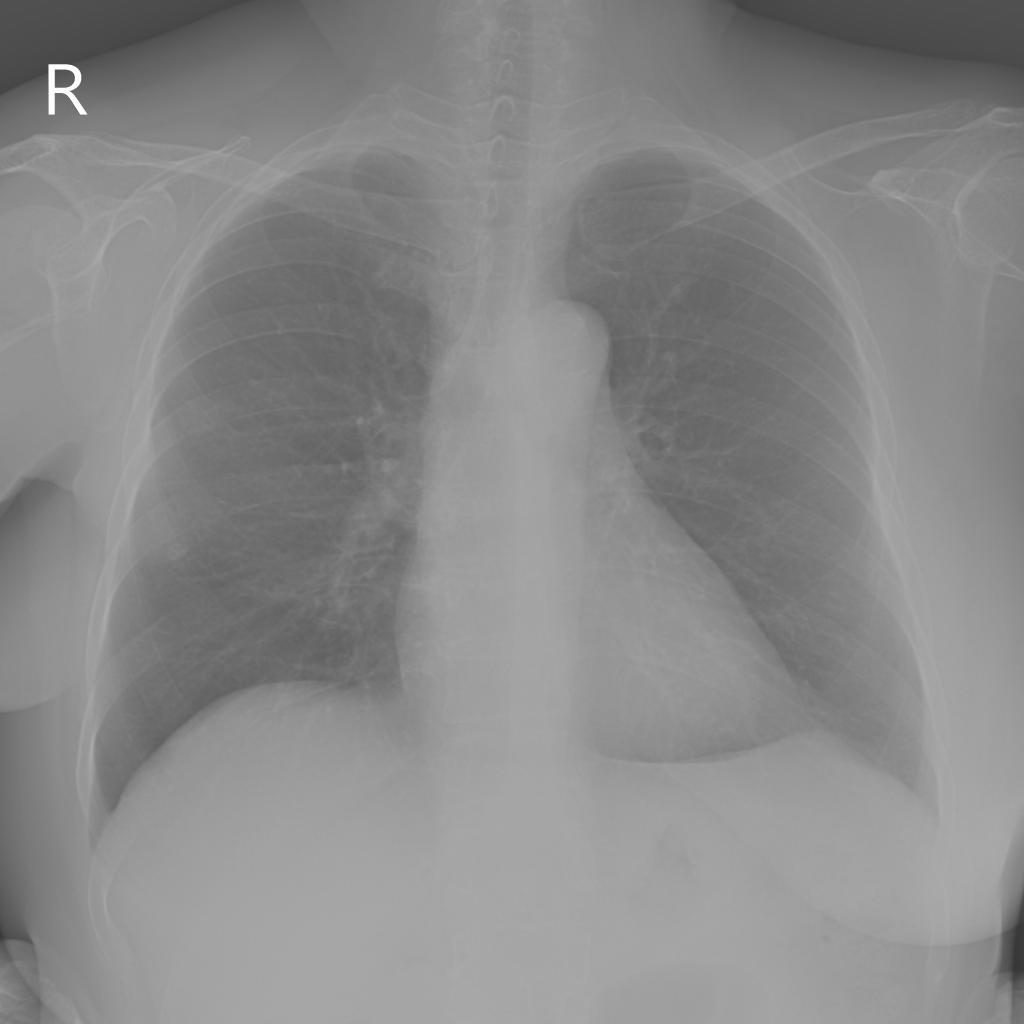Nodule: (167, 543, 188, 562)
